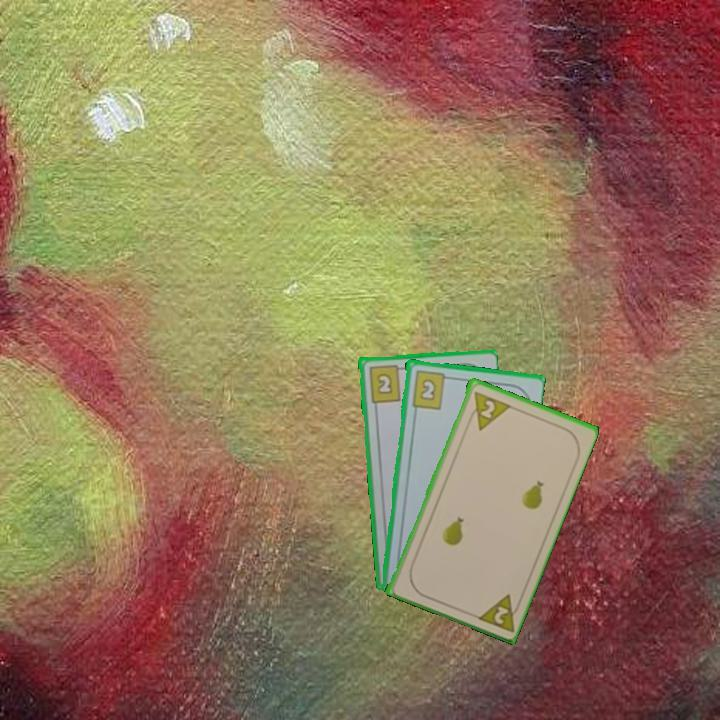2b: (408, 367, 453, 411), (365, 361, 407, 405)
2p: (472, 590, 525, 635), (465, 387, 512, 433)
